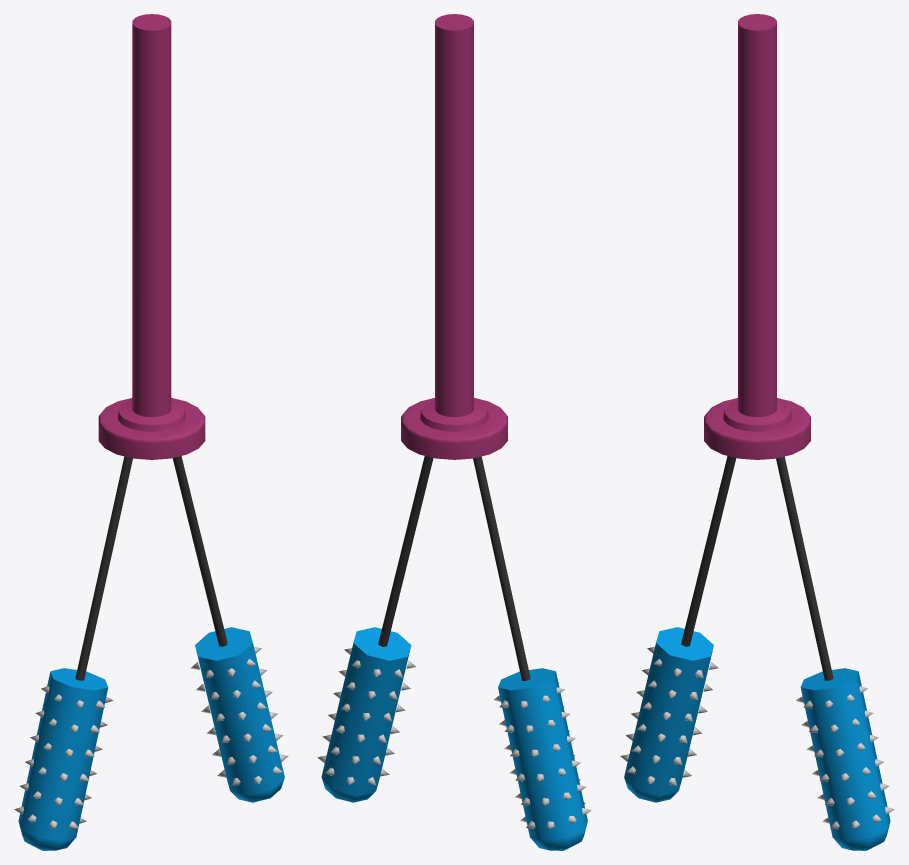
Rendered from _rap_07 (1).fbx.
The picture shows the model from 3 angles, left to right: view 1: azimuth 30°, elevation 25°; view 2: azimuth 150°, elevation 25°; view 3: azimuth 330°, elevation 25°; orthographic projection.
Visible parts, largest first — view 1: rotate, base; view 2: rotate, base; view 3: rotate, base.
Boxes of the visible parts, x1,y1,x2,y2 form: rotate: [14, 456, 288, 850]; base: [98, 14, 205, 459]; rotate: [317, 456, 591, 850]; base: [401, 14, 507, 459]; rotate: [620, 456, 894, 850]; base: [704, 14, 810, 459].
Size of the model in its own units: 1993 by 5847 by 706.
